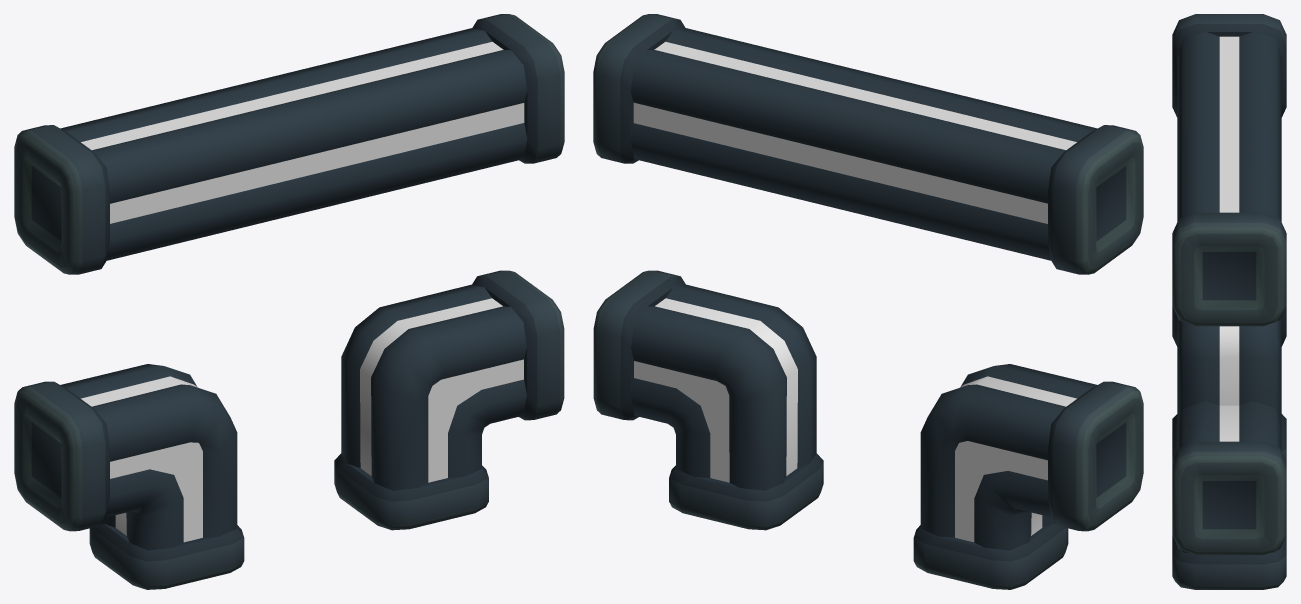
The model's file is Track_Vertical_T.fbx.
3 views of the same model, side by side, from view 1: azimuth 30°, elevation 25°; view 2: azimuth 150°, elevation 25°; view 3: azimuth 270°, elevation 25° (orthographic). The views are drawn at different scales.
Parts seen in each view (by area): view 1: Track_Vertical_T_LOD0; view 2: Track_Vertical_T_LOD0; view 3: Track_Vertical_T_LOD0.
Part boxes in pixels (x1,y1,x2,y2): Track_Vertical_T_LOD0: (14, 14, 564, 589); Track_Vertical_T_LOD0: (593, 14, 1143, 589); Track_Vertical_T_LOD0: (1172, 14, 1286, 589).
Size of what is drawn, in the model's own units: 1.01 by 0.8672 by 0.2263.
